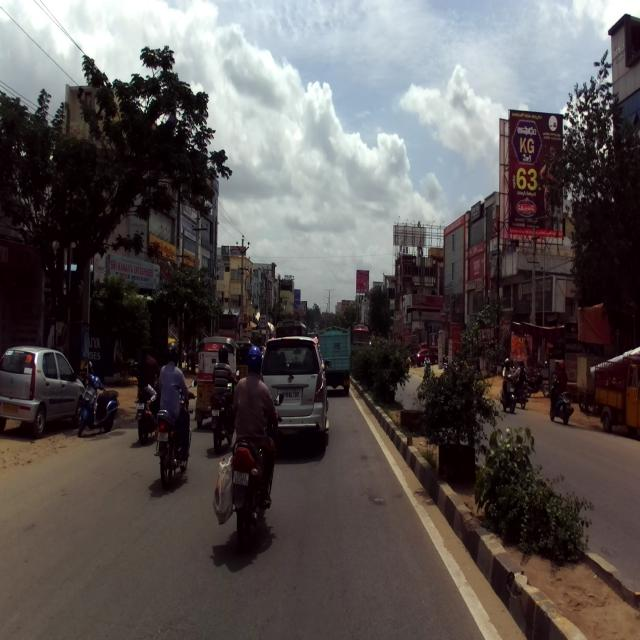autorickshaw: (194, 335, 242, 428)
car: (258, 335, 332, 453), (0, 344, 85, 438)
motorcycle: (226, 393, 284, 550), (154, 379, 198, 488), (207, 368, 240, 456), (134, 376, 164, 444)
scooter: (75, 359, 119, 436)
